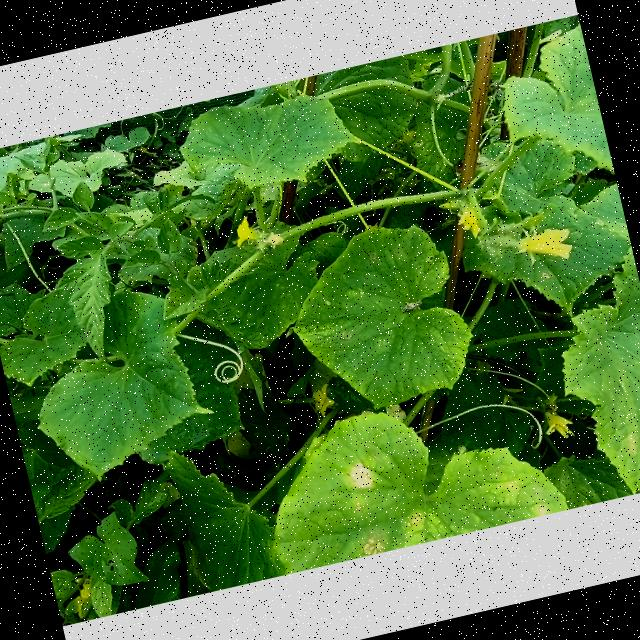Flowers: (517, 222, 579, 270), (65, 571, 102, 620), (538, 402, 578, 444), (452, 196, 487, 244), (307, 380, 338, 420), (230, 212, 260, 248), (260, 226, 286, 250)
